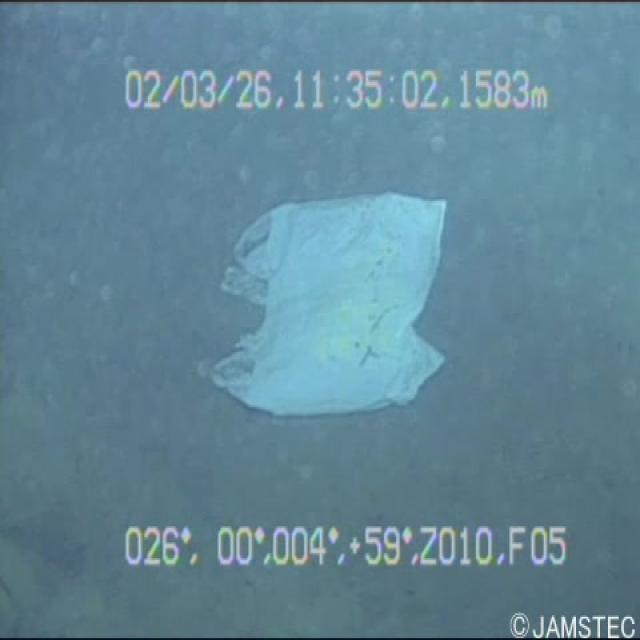plastic: (189, 173, 471, 423)
